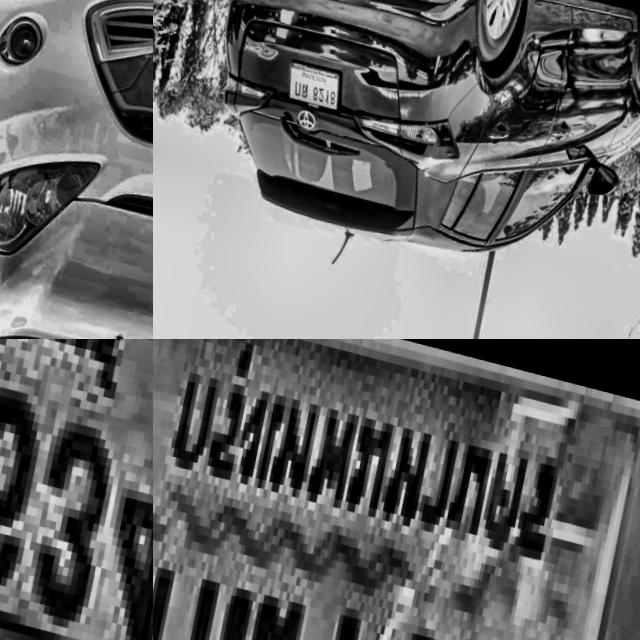license-plate: (153, 339, 640, 640), (0, 339, 153, 640), (279, 45, 356, 120)
